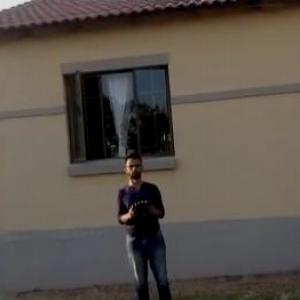follow: (113, 148, 182, 299)
